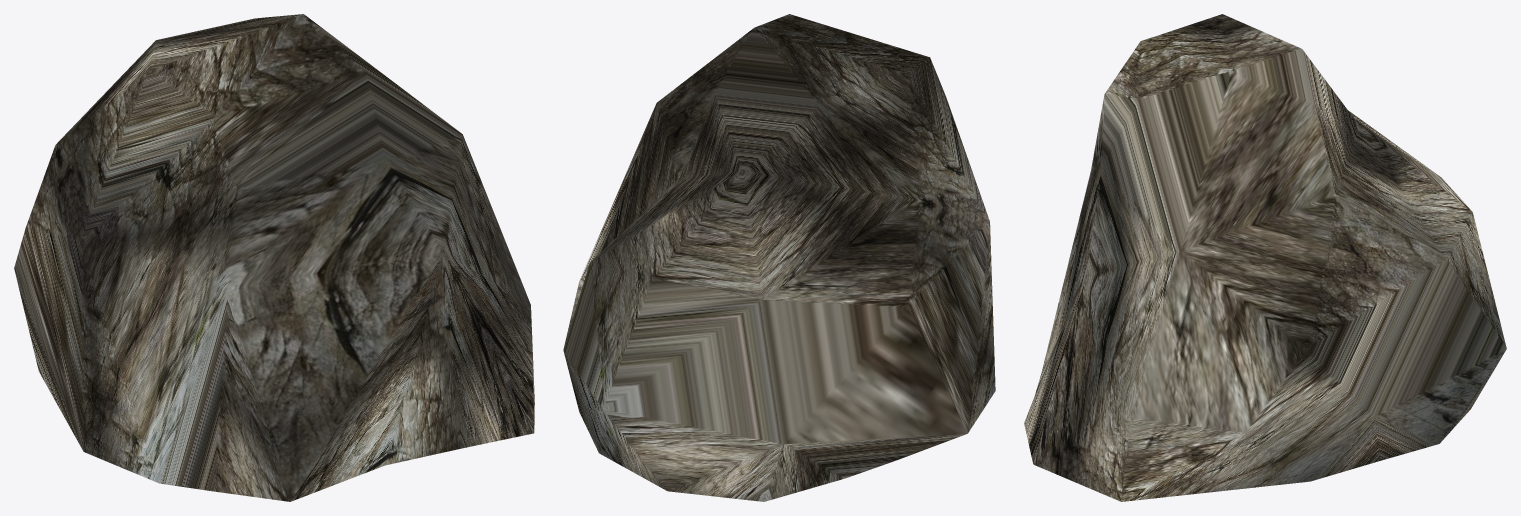
The model's file is rock.glb.
The picture shows the model from 3 angles, left to right: view 1: azimuth 30°, elevation 25°; view 2: azimuth 150°, elevation 25°; view 3: azimuth 270°, elevation 25°; orthographic projection. The views are drawn at different scales.
Visible parts, largest first — view 1: RockMesh; view 2: RockMesh; view 3: RockMesh.
Boxes of the visible parts, x1=… form: RockMesh: x1=14, y1=14, x2=534, y2=501; RockMesh: x1=563, y1=14, x2=995, y2=501; RockMesh: x1=1024, y1=14, x2=1506, y2=501.
Size of the model in its own units: 1.79 by 1.6 by 1.97.
1 material, 1 textured.
